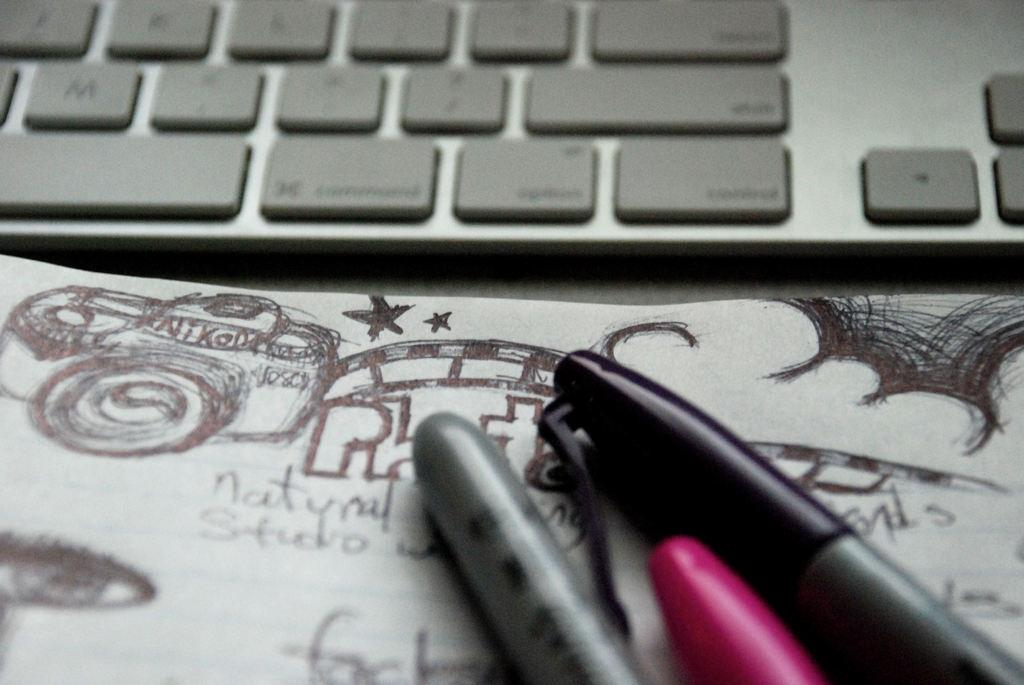pen: (538, 350, 1023, 670), (412, 409, 655, 684), (647, 534, 826, 684)
